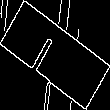L_NE: (32, 25, 78, 85)
